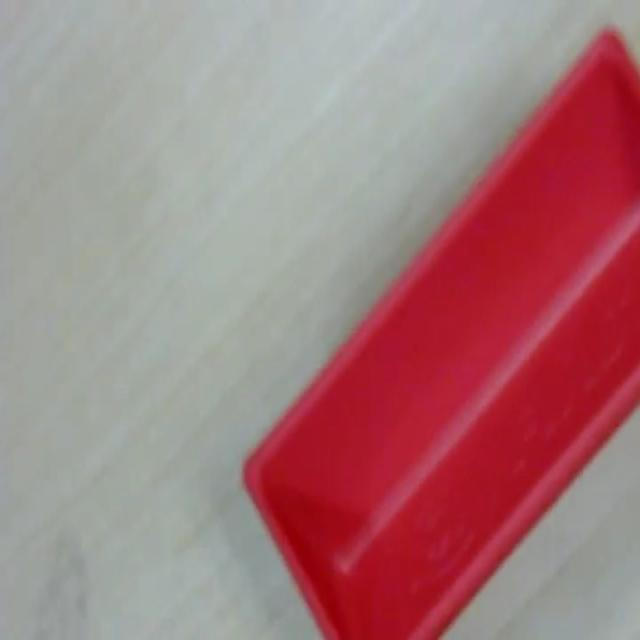red_block: (241, 23, 638, 636)
